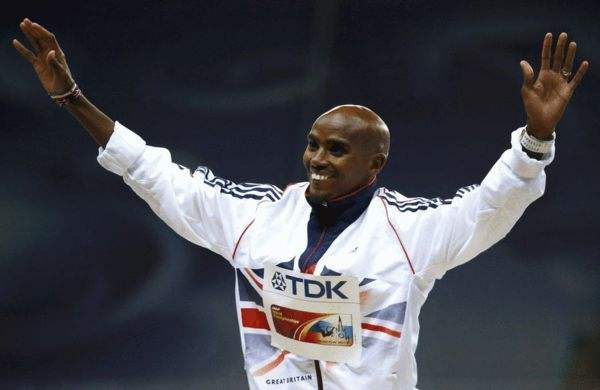no-phone: (515, 28, 590, 129), (7, 15, 73, 90)
